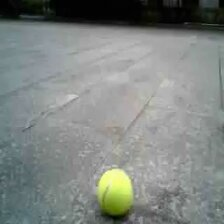tennis: (99, 169, 132, 212)
